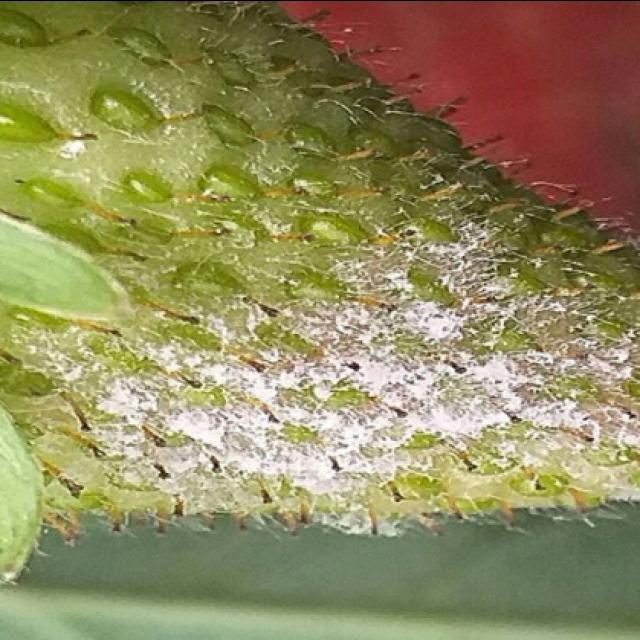Powdery Mildew Fruit: (13, 43, 638, 539)
